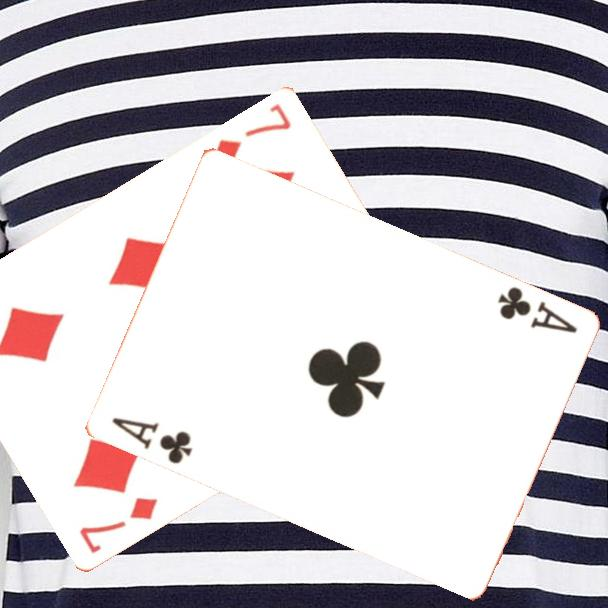c01: (493, 283, 580, 337), (107, 414, 195, 467)
d07: (209, 99, 294, 165), (75, 492, 161, 556)
